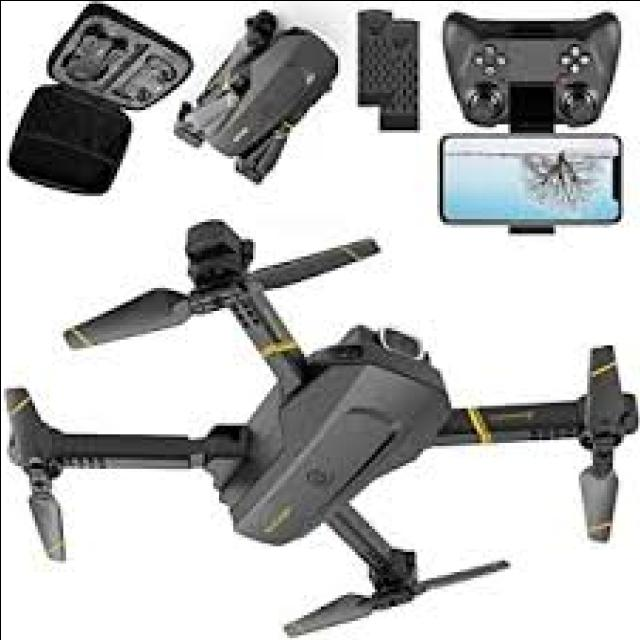drone: (0, 212, 640, 634)
